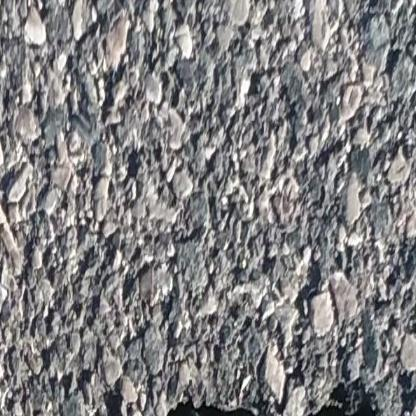Cracks: (104, 385, 393, 416)
